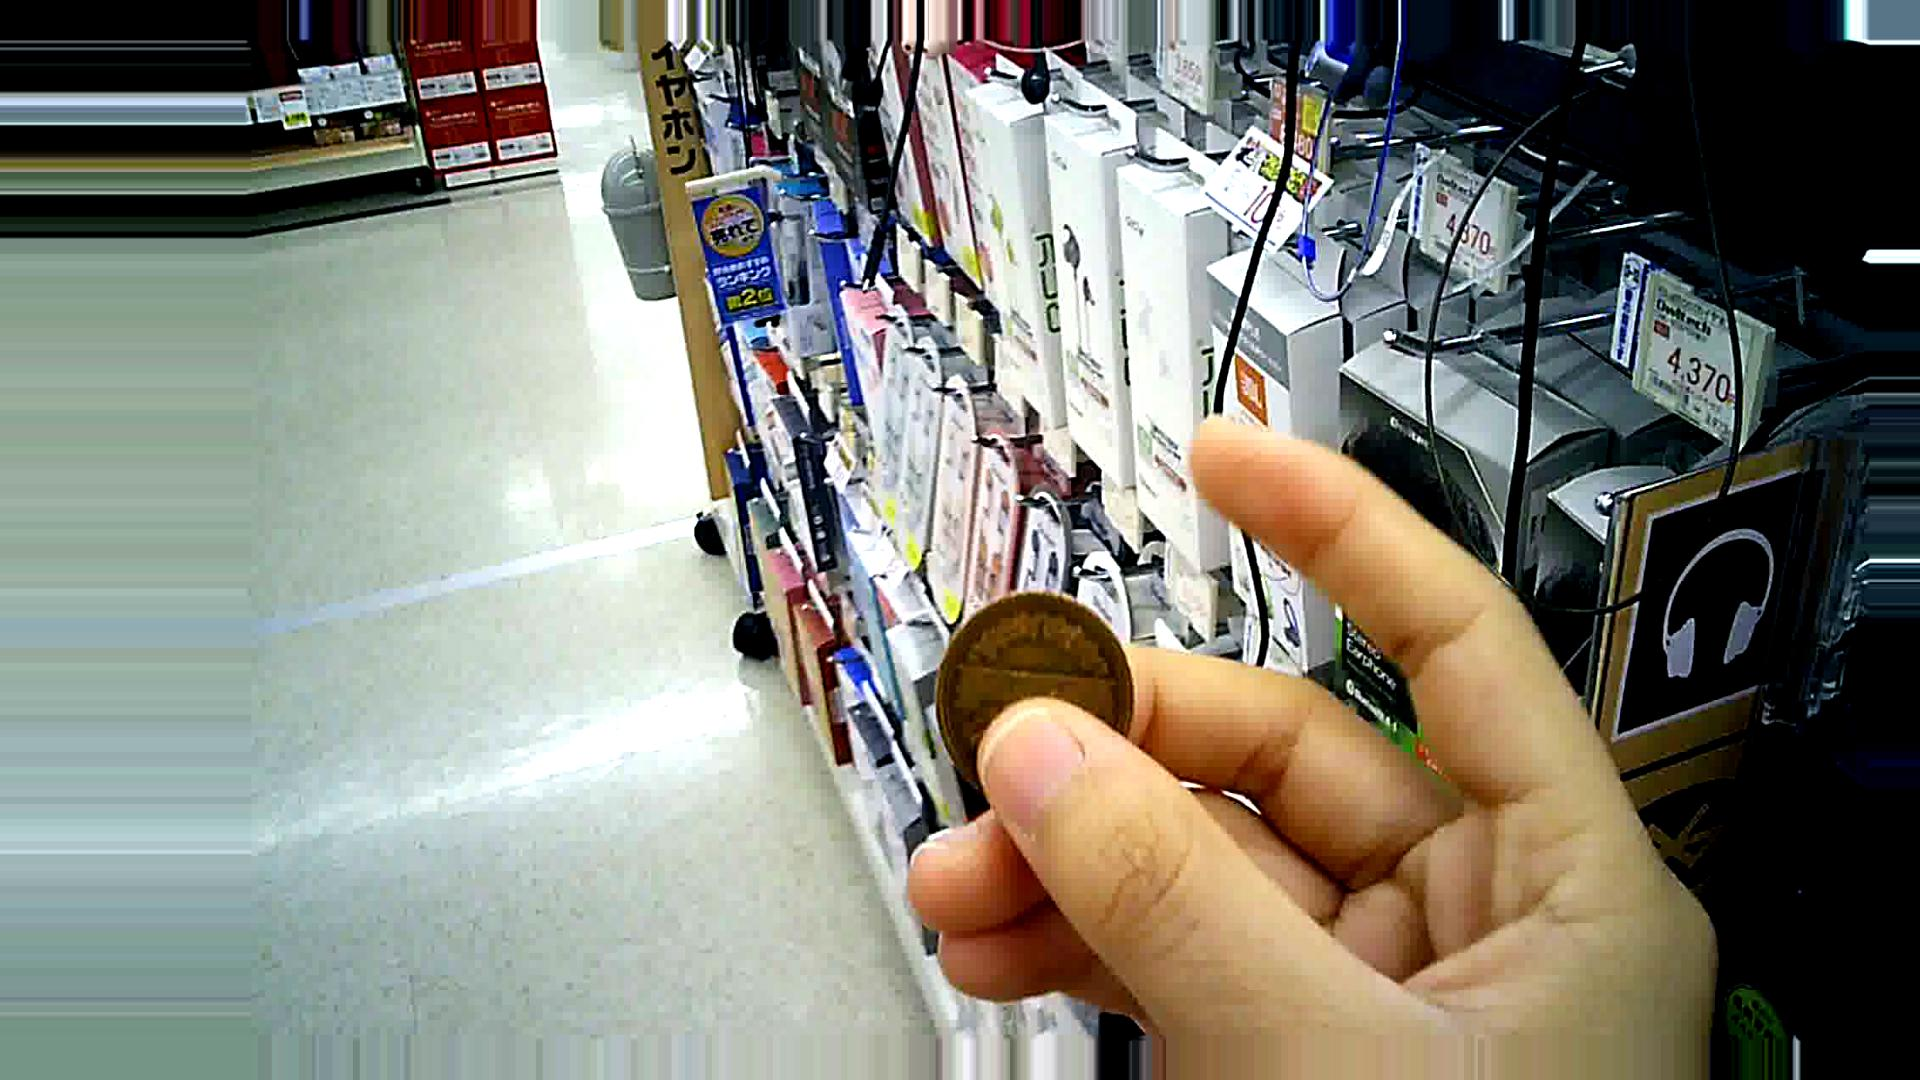10 Yen: (924, 578, 1141, 771)
